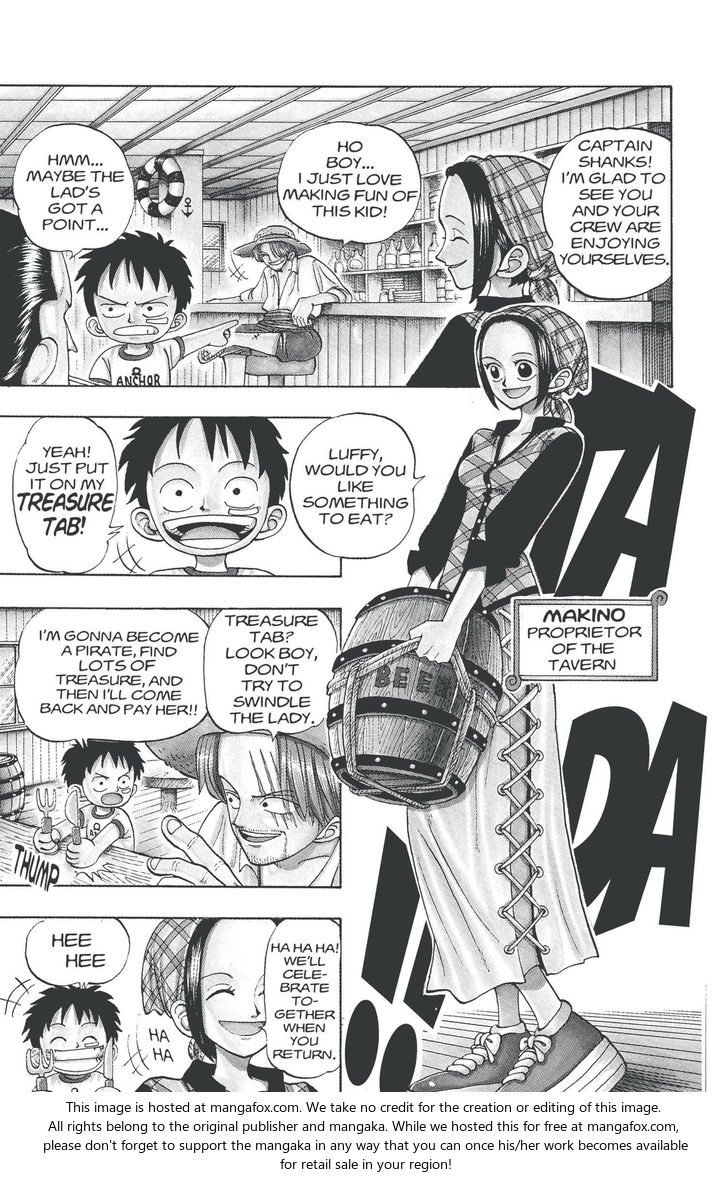bubble: (15, 608, 209, 746), (539, 127, 675, 303), (289, 410, 425, 560), (277, 119, 425, 245), (12, 415, 123, 577), (204, 607, 338, 741), (11, 124, 135, 258), (260, 917, 342, 1079), (513, 602, 658, 679), (24, 917, 130, 987)
